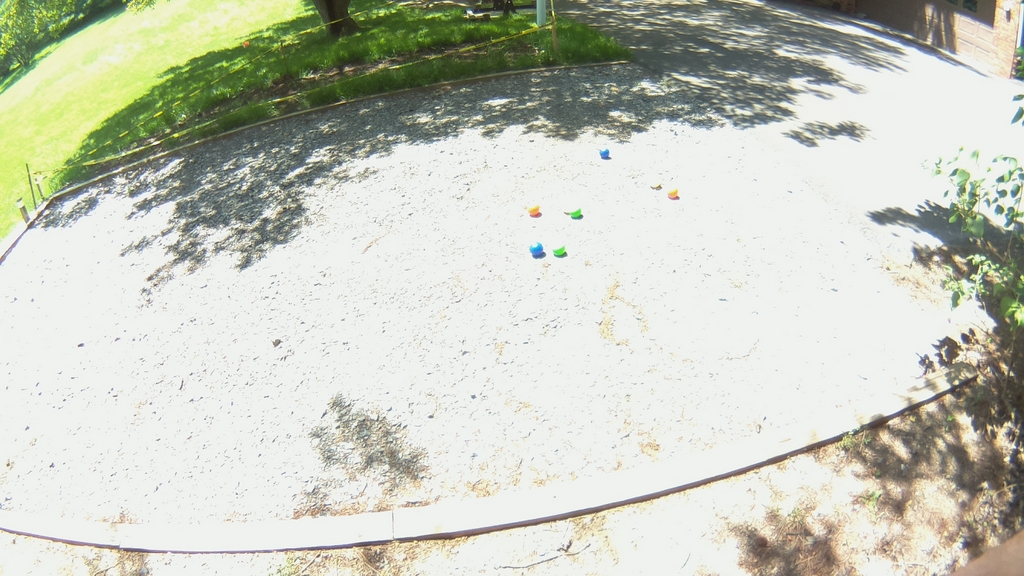ball: (531, 243, 542, 258)
